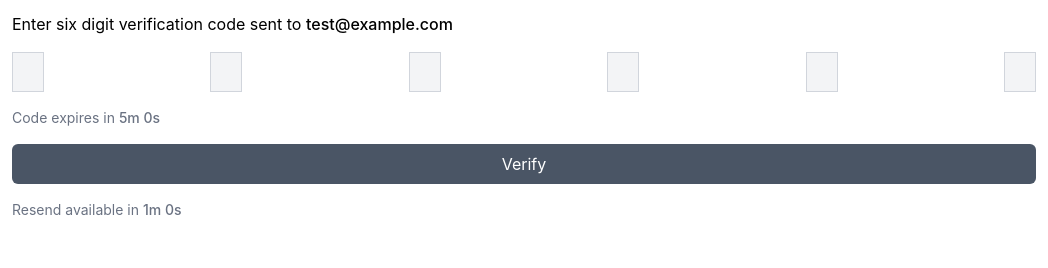
Test: VerificationStep › shows invalid code message when verified is false
Type "1" into the 1st field at (28, 72), box [12,52,44,92]
Type "2" into the 2nd field at (226, 72), box [210,52,242,92]
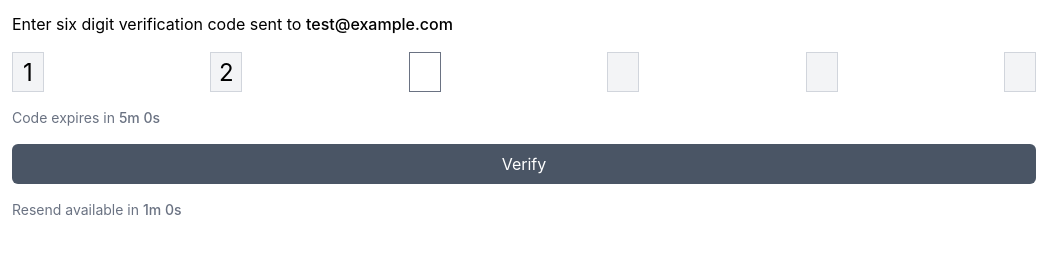
Type "3" into the 3rd field at (425, 72), box [409,52,441,92]
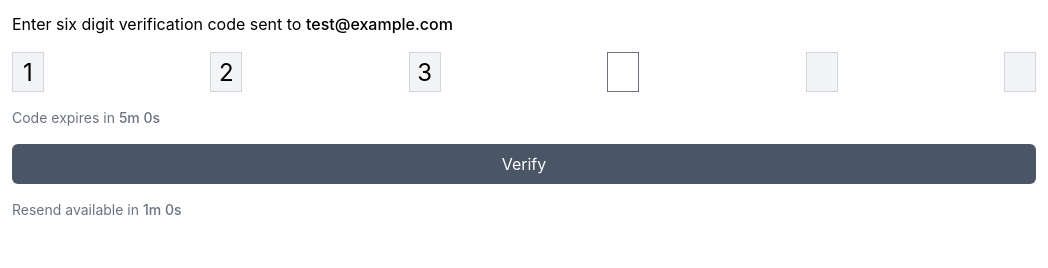
Type "4" into the 4th field at (623, 72), box [607,52,639,92]
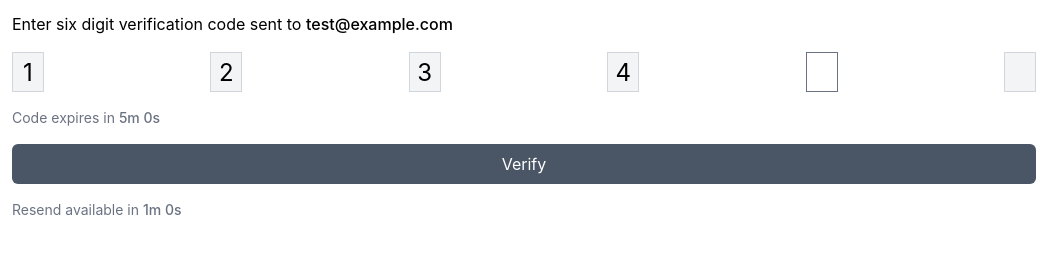
Type "5" into the 5th field at (822, 72), box [806,52,838,92]
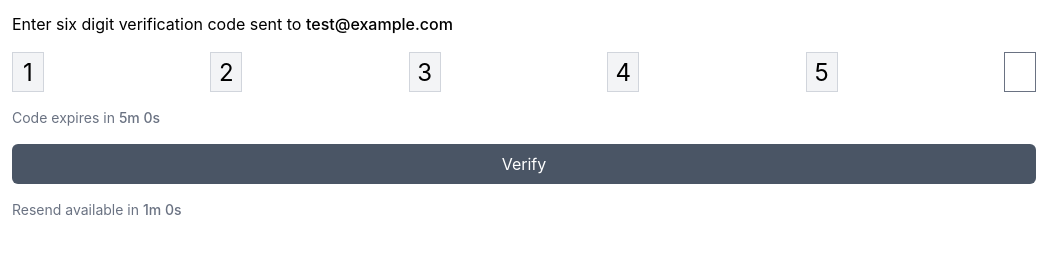
Type "6" into the 6th field at (1020, 72), box [1004,52,1036,92]
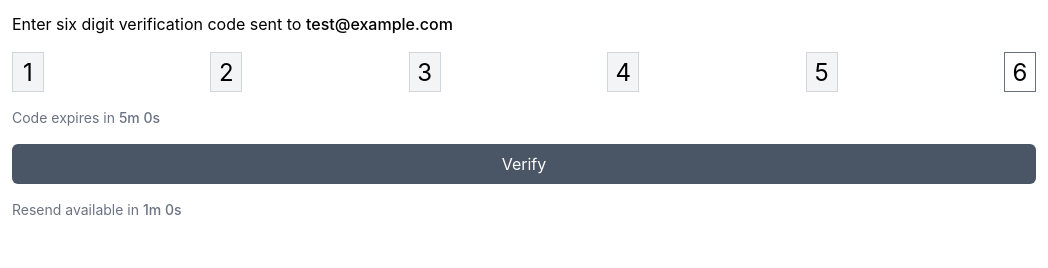
Click the button "Verify" at (524, 164), box [12,144,1036,184]
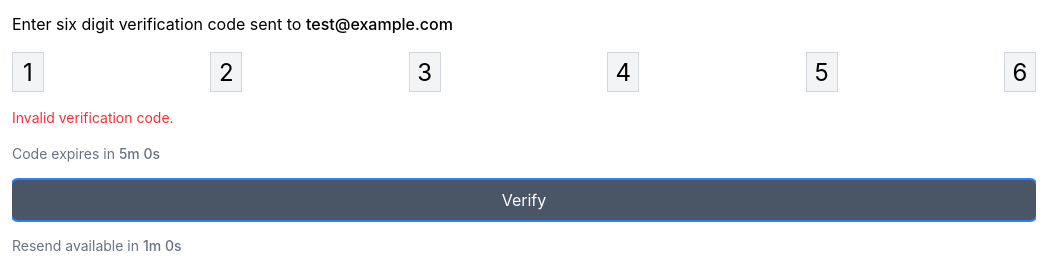
Result: the text "Invalid verification code." is shown at [12,109,174,126]
